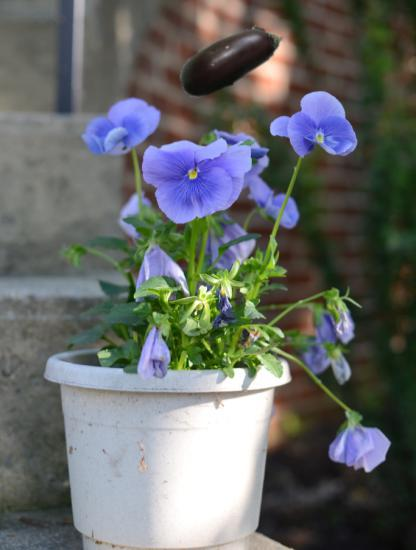Eggplant: (173, 1, 289, 117)
